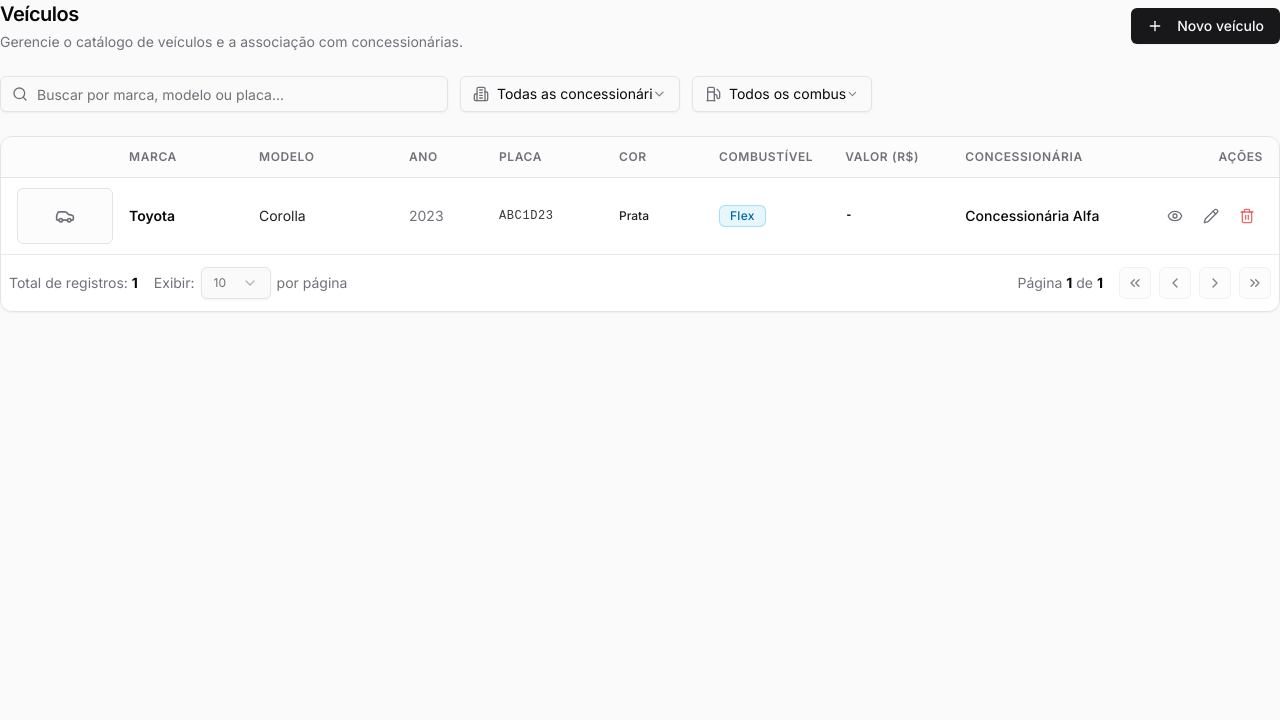
Test: VehiclesPage › should open create dialog when Novo veículo button is clicked
The width and height of the screenshot is (1280, 720).
Click the button "Novo veículo". click: {"x": 1206, "y": 26}
box: [1131, 8, 1279, 44]
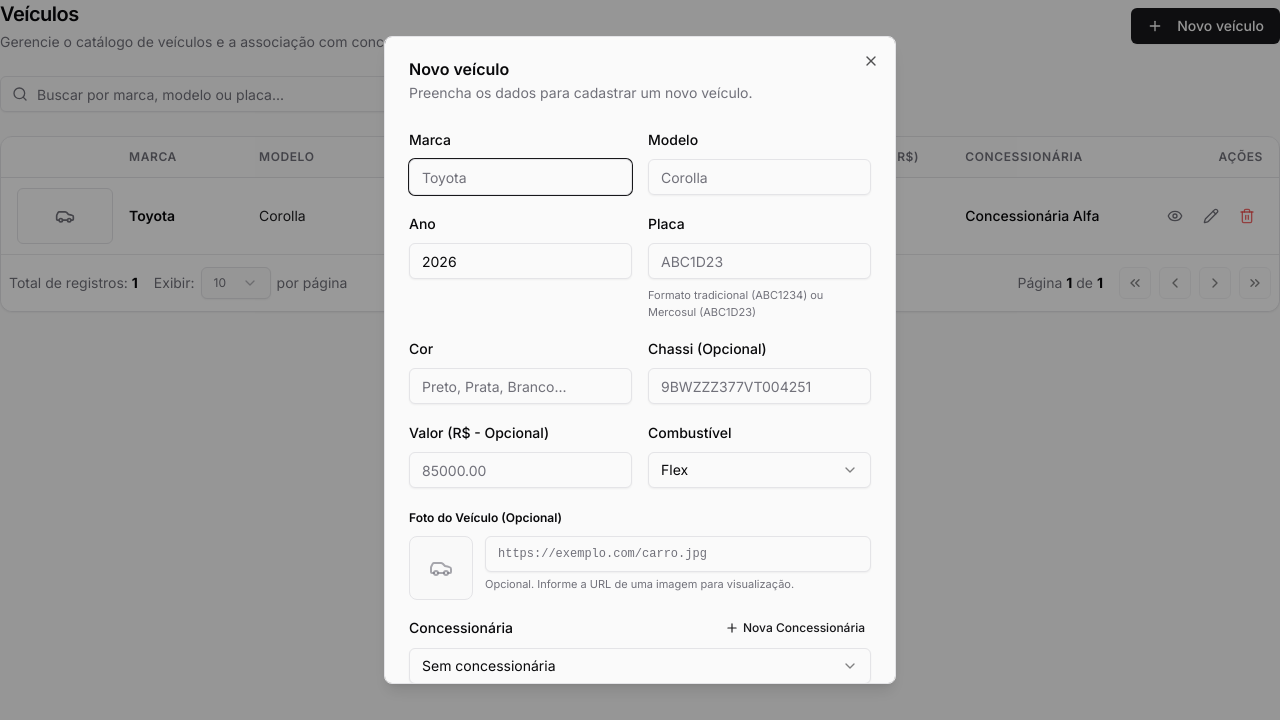
Result: the dialog is shown at [384, 36, 896, 684]
